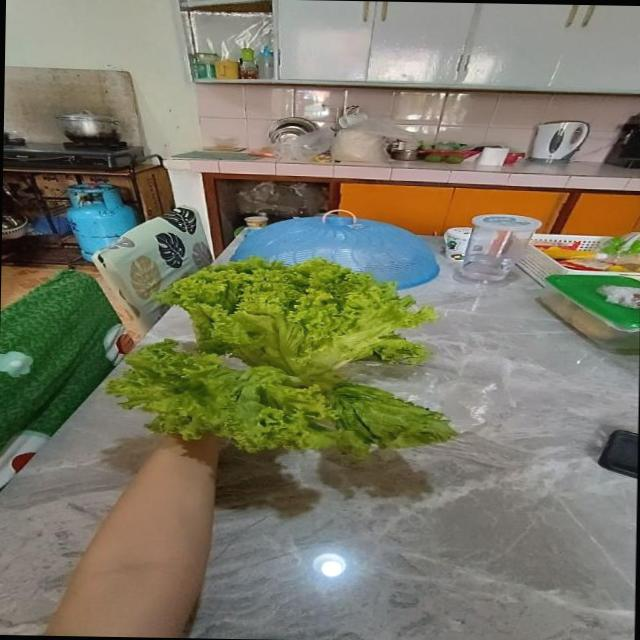Lettuce-Ready-to-Harvest: (107, 259, 454, 451)
